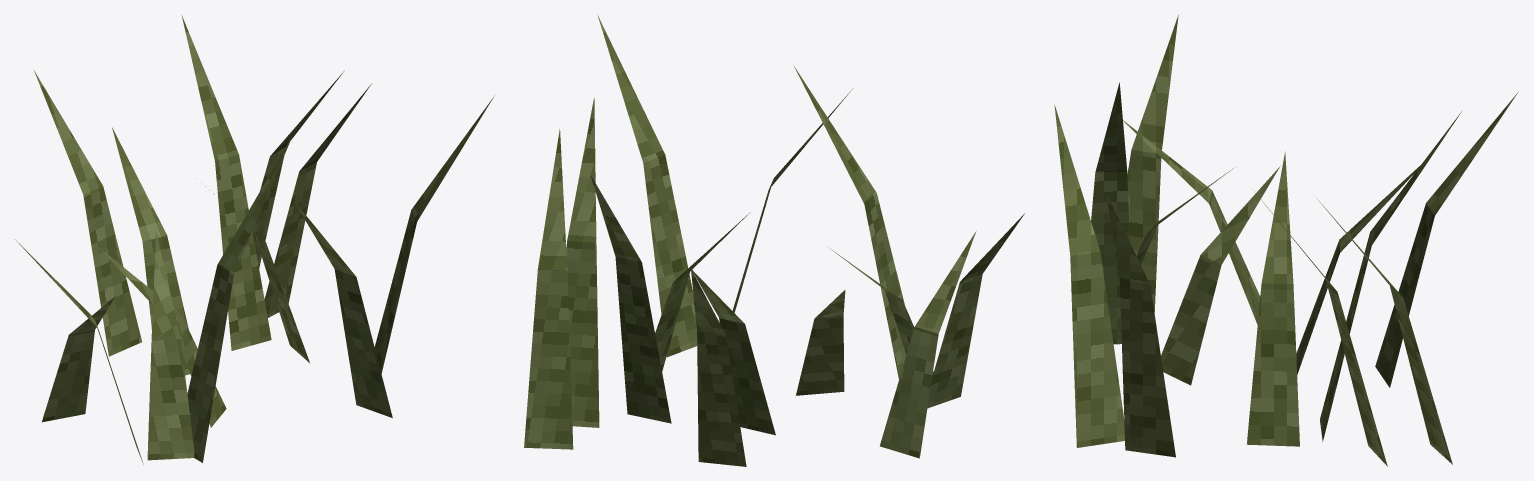
Rendered from meadow-tuft.glb.
3 renders of one model, left to right at view 1: azimuth 30°, elevation 25°; view 2: azimuth 150°, elevation 25°; view 3: azimuth 270°, elevation 25°, orthographic. The views are drawn at different scales.
Parts seen in each view (by area): view 1: meadow-tuft_Leaves; view 2: meadow-tuft_Leaves; view 3: meadow-tuft_Leaves.
Boxes of the visible parts, x1,y1,x2,y2 form: meadow-tuft_Leaves: (15,15,494,464); meadow-tuft_Leaves: (524,15,1024,466); meadow-tuft_Leaves: (1054,15,1518,466).
Bounding box in the file's own units: 0.8094 × 0.5001 × 0.6526.
1 material, 1 textured.
